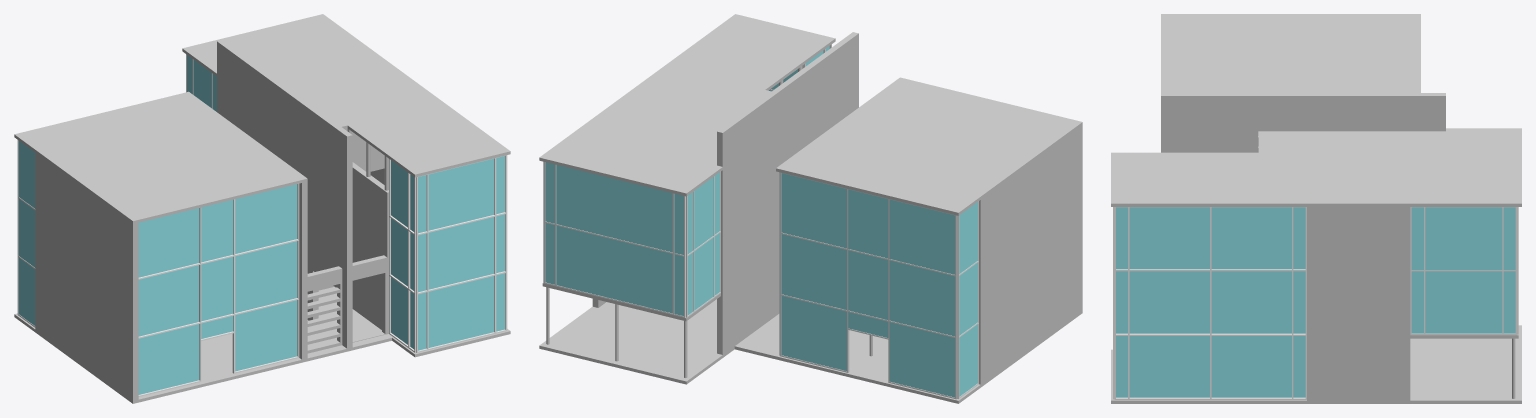
Rendered from Building_Simplified.glb.
The picture shows the model from 3 angles, left to right: view 1: azimuth 30°, elevation 25°; view 2: azimuth 150°, elevation 25°; view 3: azimuth 270°, elevation 25°; orthographic projection. The views are drawn at different scales.
Visible parts, largest first — view 1: Floor_4_1, Floor_4_2, Wall_001, Wall_009, Floor_1_1, Wall_006, CWall_Panels_034, CWall_Panels_028, CWall_Panels_045, CWall_Panels_005, CWall_Panels_2, CWall_Panels_001 (+28 smaller); view 2: Floor_4_1, Floor_4_2, Wall_009, Wall_001, Floor_1_1, CWall_Panels_057, CWall_Panels_064, CWall_Panels_019, CWall_Panels_011, CWall_Panels_015, CWall_Panels_021, CWall_Panels_017 (+18 smaller); view 3: Floor_4_2, Floor_4_1, Wall_008, Wall_009, Floor_1_1, CWall_Panels_037, CWall_Panels_038, CWall_Panels_048, CWall_Panels_049, CWall_Panels_030, CWall_Panels_032, CWall_Panels_055 (+16 smaller).
Boxes of the visible parts, x1,y1,x2,y2 form: Floor_4_1: [14, 91, 307, 223]; Floor_4_2: [182, 14, 510, 177]; Wall_001: [35, 153, 138, 400]; Wall_009: [217, 40, 352, 348]; Floor_1_1: [14, 286, 510, 403]; Wall_006: [352, 162, 388, 333]; CWall_Panels_034: [428, 217, 494, 289]; CWall_Panels_028: [428, 276, 494, 347]; CWall_Panels_045: [428, 158, 494, 230]; CWall_Panels_005: [235, 241, 297, 312]; CWall_Panels_2: [235, 300, 297, 370]; CWall_Panels_001: [138, 324, 199, 394]; Floor_4_1: [776, 77, 1082, 215]; Floor_4_2: [539, 14, 835, 196]; Wall_009: [717, 32, 858, 354]; Wall_001: [979, 125, 1082, 384]; Floor_1_1: [539, 299, 1082, 403]; CWall_Panels_057: [556, 225, 672, 313]; CWall_Panels_064: [556, 165, 672, 252]; CWall_Panels_019: [889, 260, 955, 336]; CWall_Panels_011: [889, 322, 955, 397]; CWall_Panels_015: [889, 199, 955, 274]; CWall_Panels_021: [781, 234, 846, 309]; CWall_Panels_017: [781, 173, 846, 248]; Floor_4_2: [1111, 128, 1521, 206]; Floor_4_1: [1161, 14, 1420, 92]; Wall_008: [1314, 207, 1410, 400]; Wall_009: [1161, 93, 1445, 152]; Floor_1_1: [1111, 325, 1521, 403]; CWall_Panels_037: [1129, 271, 1209, 333]; CWall_Panels_038: [1211, 271, 1291, 333]; CWall_Panels_048: [1129, 207, 1209, 269]; CWall_Panels_049: [1211, 207, 1291, 269]; CWall_Panels_030: [1129, 336, 1209, 397]; CWall_Panels_032: [1211, 336, 1291, 397]; CWall_Panels_055: [1425, 271, 1502, 333].
Bounding box in the file's own units: 19.2 × 11.13 × 17.58.
